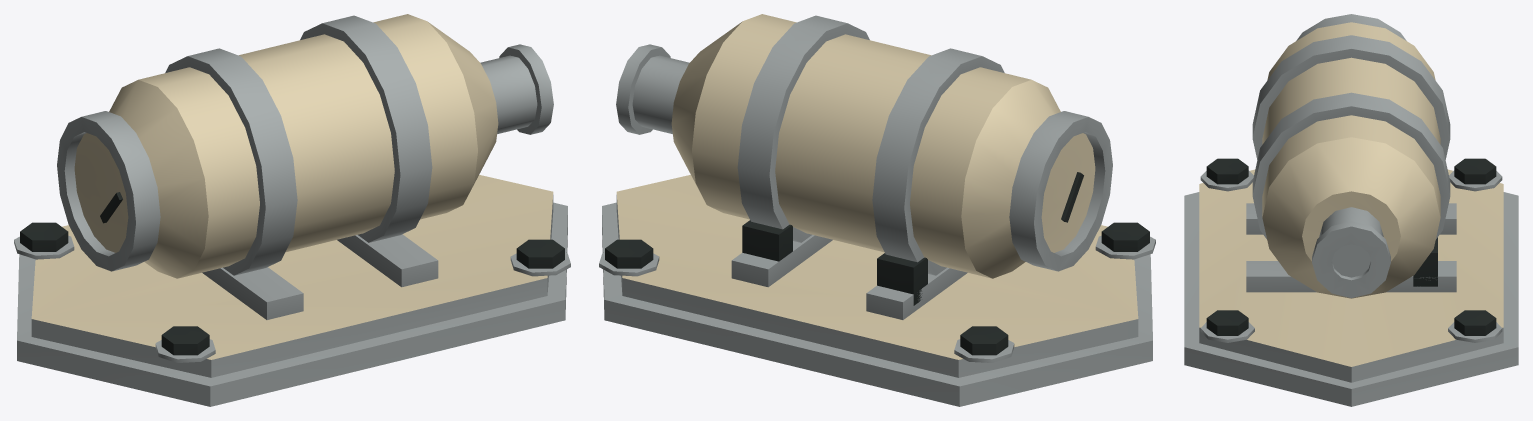
The model's file is panel_tank.glb.
3 renders of one model, left to right at view 1: azimuth 30°, elevation 25°; view 2: azimuth 150°, elevation 25°; view 3: azimuth 270°, elevation 25°, orthographic. The views are drawn at different scales.
Visible parts, largest first — view 1: panel_tank; view 2: panel_tank; view 3: panel_tank.
Boxes of the visible parts, bbox=[...] form: panel_tank: bbox=[14, 14, 570, 406]; panel_tank: bbox=[599, 14, 1155, 406]; panel_tank: bbox=[1184, 14, 1518, 406].
Bounding box in the file's own units: 0.45 × 0.195 × 0.27.
